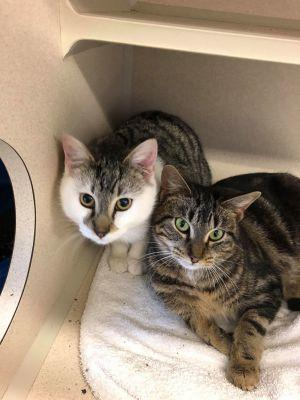bengal: (153, 160, 265, 279)
